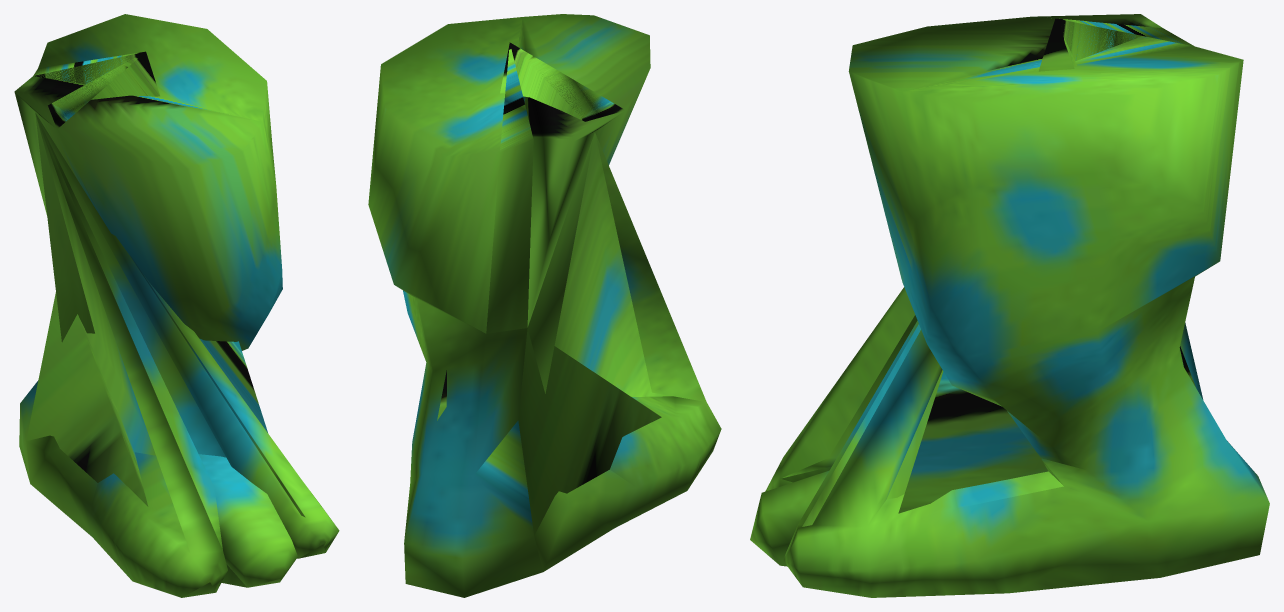
File: left_leg-0_toy_story_3_dragon.blend.obj
3 views of the same model, side by side, from view 1: azimuth 30°, elevation 25°; view 2: azimuth 150°, elevation 25°; view 3: azimuth 270°, elevation 25° (orthographic). The views are drawn at different scales.
Visible parts, largest first — view 1: left_leg-0_toy_story_3_dragon.blend_dragon_wii_png.004; view 2: left_leg-0_toy_story_3_dragon.blend_dragon_wii_png.004; view 3: left_leg-0_toy_story_3_dragon.blend_dragon_wii_png.004.
Boxes of the visible parts, x1,y1,x2,y2 form: left_leg-0_toy_story_3_dragon.blend_dragon_wii_png.004: (14,14,339,597); left_leg-0_toy_story_3_dragon.blend_dragon_wii_png.004: (368,14,721,597); left_leg-0_toy_story_3_dragon.blend_dragon_wii_png.004: (750,14,1269,597).
Size of the model in its own units: 0.8319 by 1.83 by 1.58.
1 material, 1 textured.
